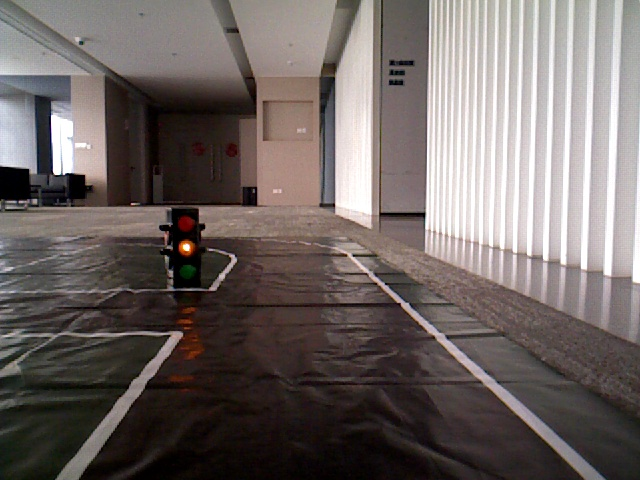yellow: (169, 211, 201, 282)
